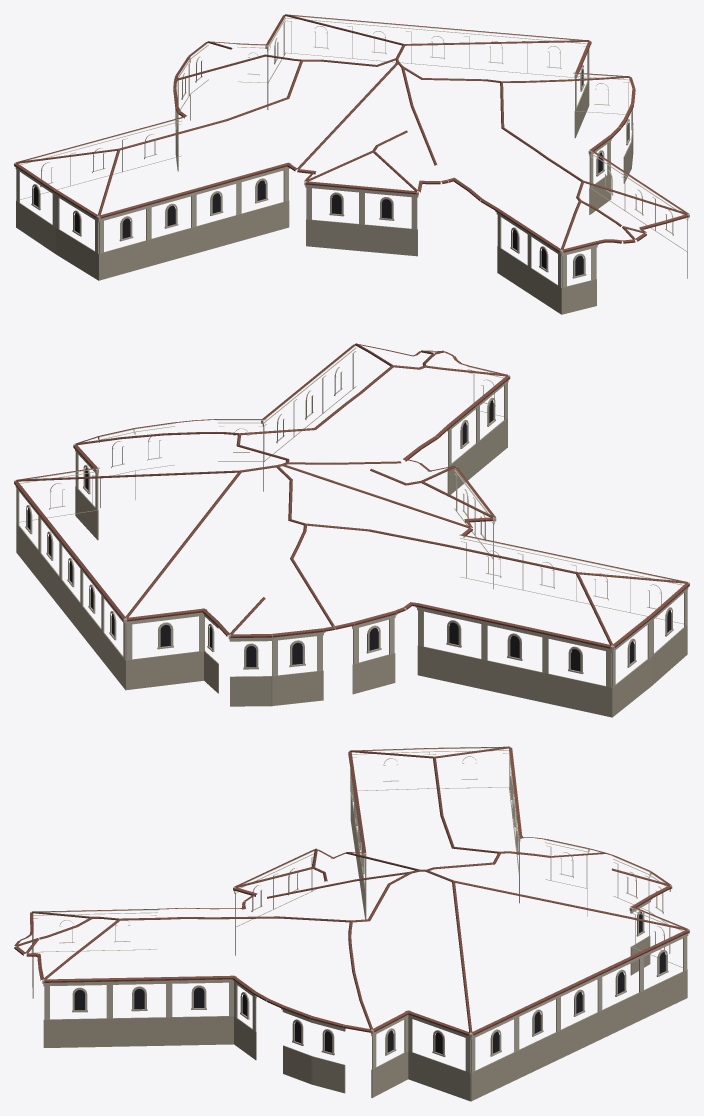
The picture shows the model from 3 angles, top to bottom: view 1: azimuth 30°, elevation 25°; view 2: azimuth 150°, elevation 25°; view 3: azimuth 270°, elevation 25°; orthographic projection. The views are drawn at different scales.
Visible parts, largest first — view 1: detail; view 2: detail; view 3: detail.
Boxes of the visible parts, bbox=[...] form: detail: bbox=[14, 14, 689, 314]; detail: bbox=[14, 343, 689, 717]; detail: bbox=[14, 746, 689, 1101].
Bounding box in the file's own units: 64.98 × 12.79 × 64.44.
